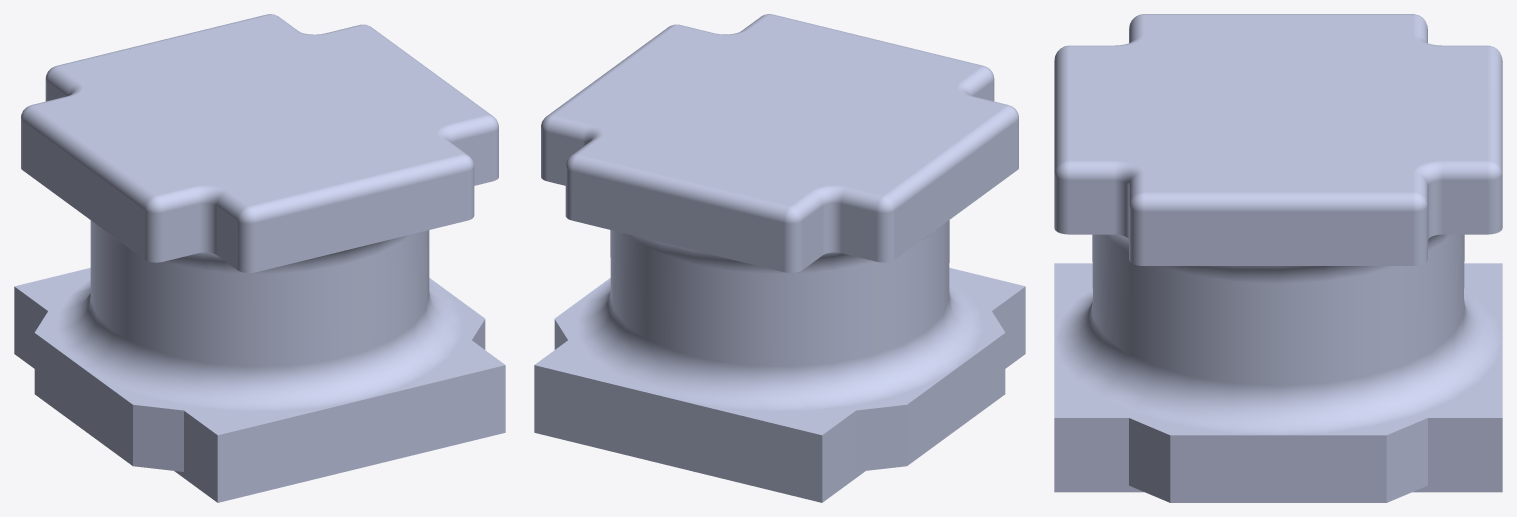
Rendered from SWPA6045S.glb.
The picture shows the model from 3 angles, left to right: view 1: azimuth 30°, elevation 25°; view 2: azimuth 150°, elevation 25°; view 3: azimuth 270°, elevation 25°; orthographic projection. The views are drawn at different scales.
Parts seen in each view (by area): view 1: C8CC22C9-DA11-46FA-A06B-245ECFAC1F3E; view 2: C8CC22C9-DA11-46FA-A06B-245ECFAC1F3E; view 3: C8CC22C9-DA11-46FA-A06B-245ECFAC1F3E.
Part boxes in pixels (x1,y1,x2,y2): C8CC22C9-DA11-46FA-A06B-245ECFAC1F3E: (14, 14, 505, 502); C8CC22C9-DA11-46FA-A06B-245ECFAC1F3E: (534, 14, 1025, 502); C8CC22C9-DA11-46FA-A06B-245ECFAC1F3E: (1054, 14, 1502, 502).
Size of the model in its own units: 0.006 by 0.0046 by 0.006.
